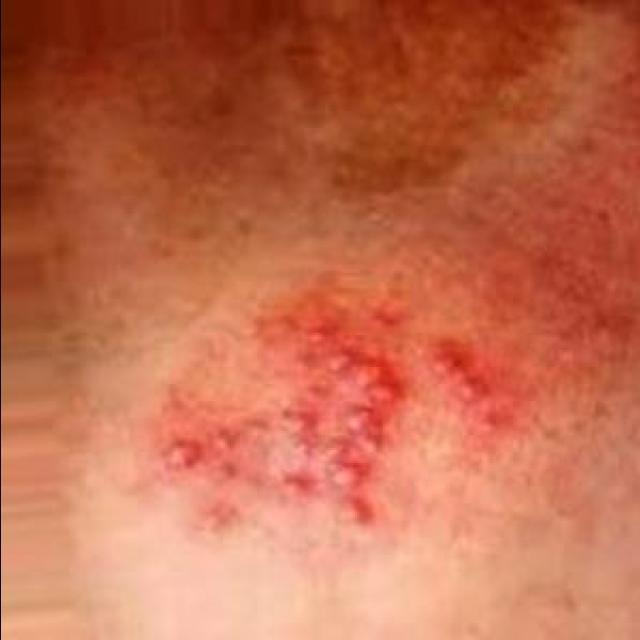Shingles: (162, 312, 487, 533)
